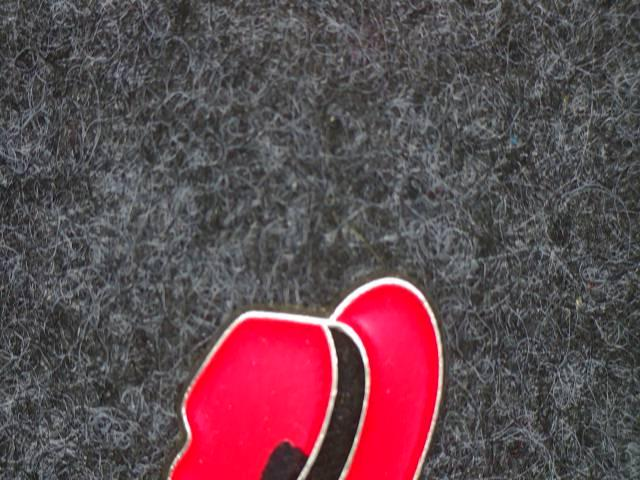Red-Hat: (126, 252, 472, 480)
Scratch: (250, 434, 325, 480)
